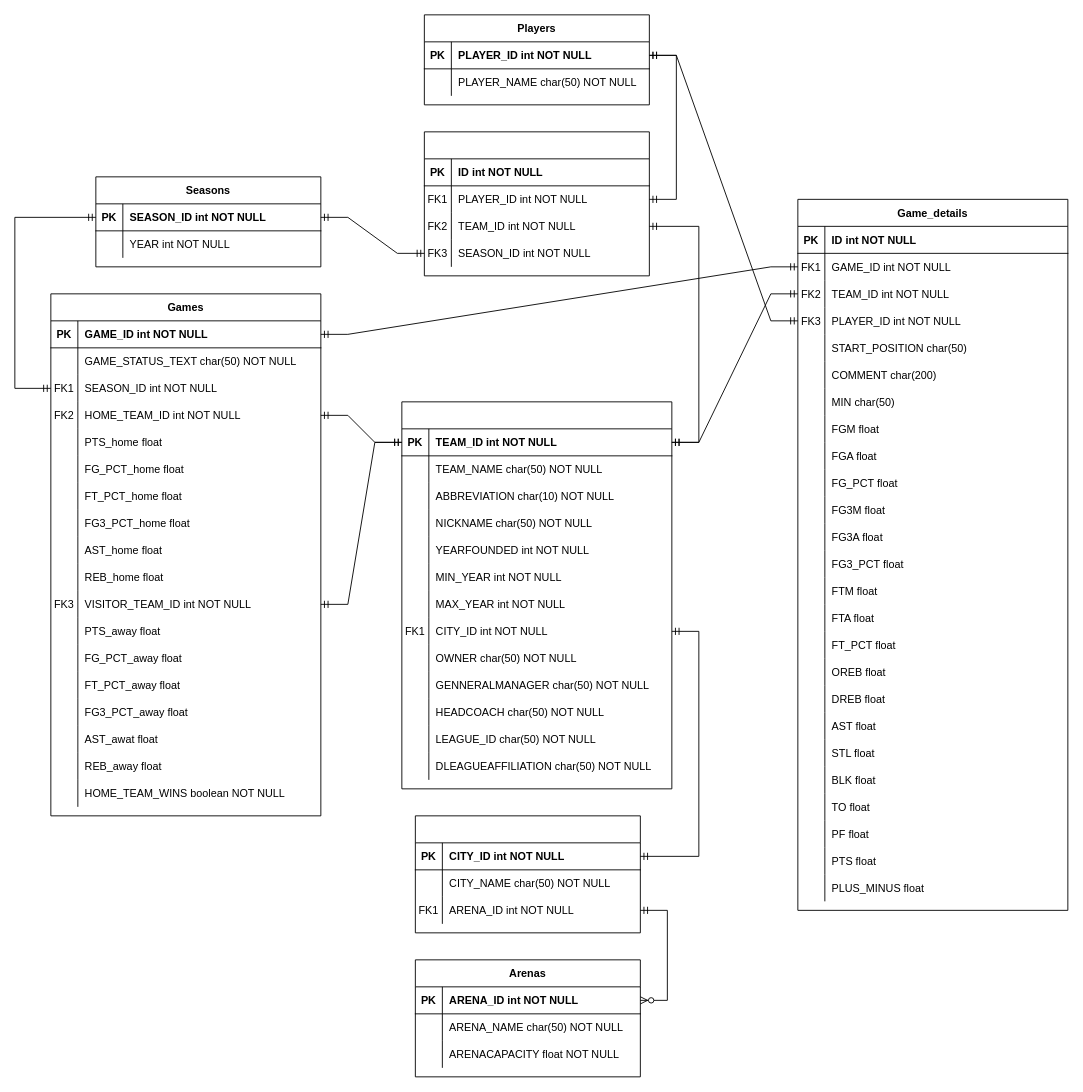
Some shapes in this 1083 by 1092 pixel diagram are drawn without their labels. The box of each missing label's shape, as (x1, y1, x2, y2) in pixels:
Cities: (414, 815, 640, 933)
Player_at_team_in_season: (423, 131, 649, 276)
Teams: (401, 401, 672, 789)
